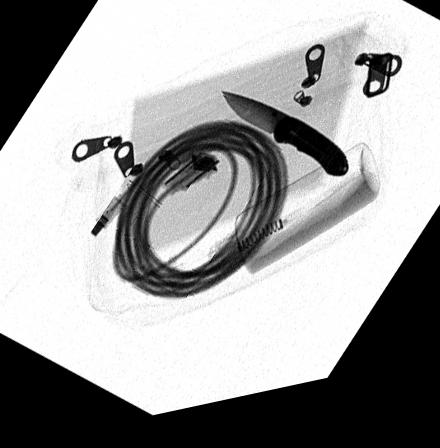Knife: (219, 99, 350, 192)
